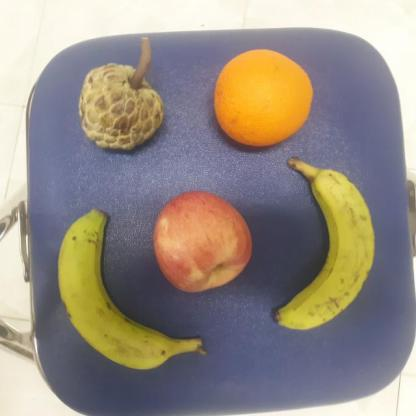annona: (78, 62, 166, 154)
apple: (152, 188, 256, 293)
banana: (57, 207, 205, 370), (275, 158, 377, 332)
orange: (212, 47, 316, 149)
